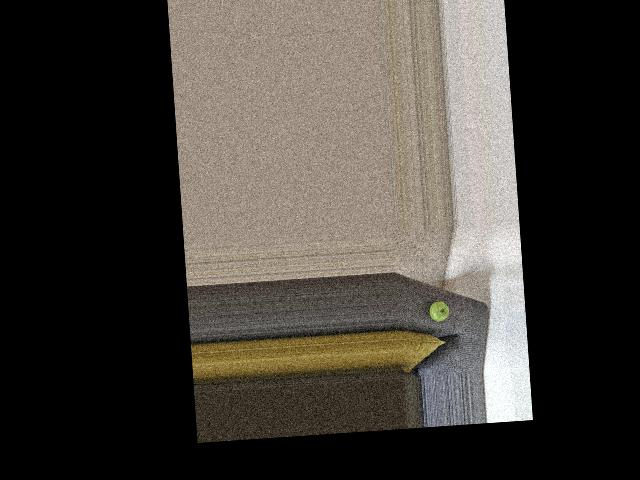apple: (426, 300, 450, 323)
